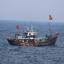fishing boat: (6, 13, 60, 48)
